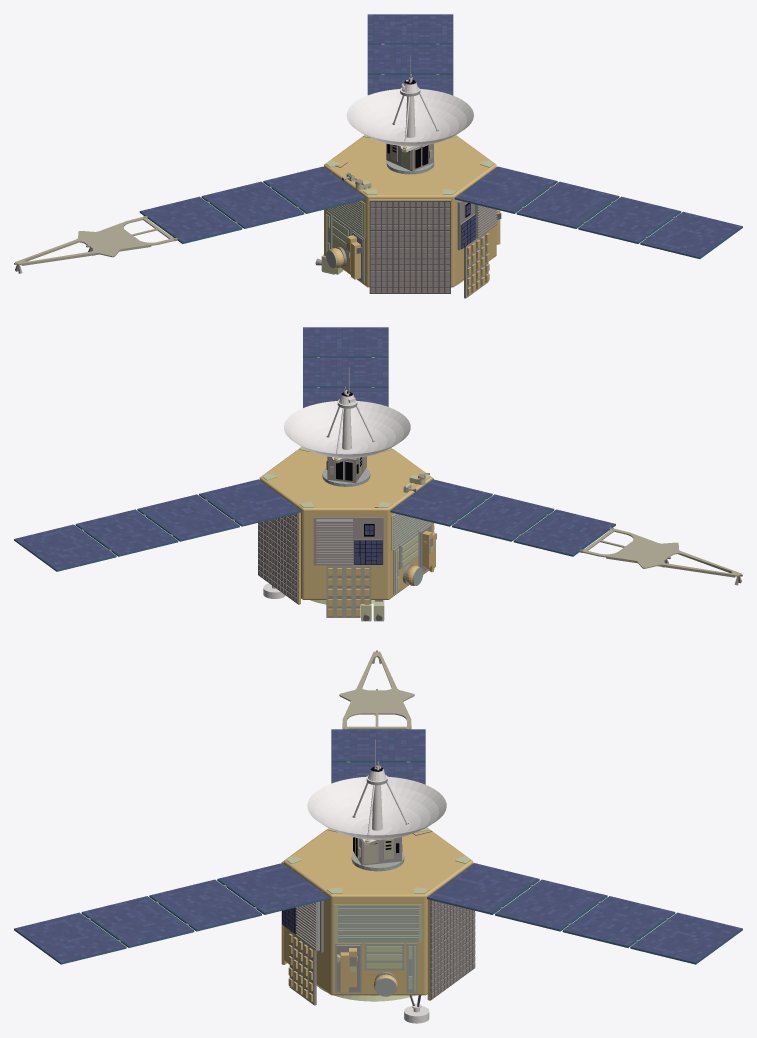
The model's file is juno.glb.
The picture shows the model from 3 angles, top to bottom: view 1: azimuth 30°, elevation 25°; view 2: azimuth 150°, elevation 25°; view 3: azimuth 270°, elevation 25°; orthographic projection. The views are drawn at different scales.
Visible parts, largest first — view 1: Layer_0; view 2: Layer_0; view 3: Layer_0.
Part boxes in pixels (left/top/right/bottom): Layer_0: left=14, top=14, right=742, bottom=298; Layer_0: left=14, top=327, right=742, bottom=621; Layer_0: left=14, top=650, right=742, bottom=1023.
Size of the model in its own units: 23.26 by 8.73 by 22.92.
Materials: 2 (2 with a texture image).
